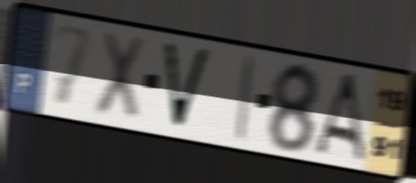7: (51, 20, 93, 113)
8: (268, 60, 323, 157)
A: (311, 71, 368, 166)
I: (233, 53, 257, 145)
V: (160, 38, 214, 134)
X: (90, 27, 149, 126)
